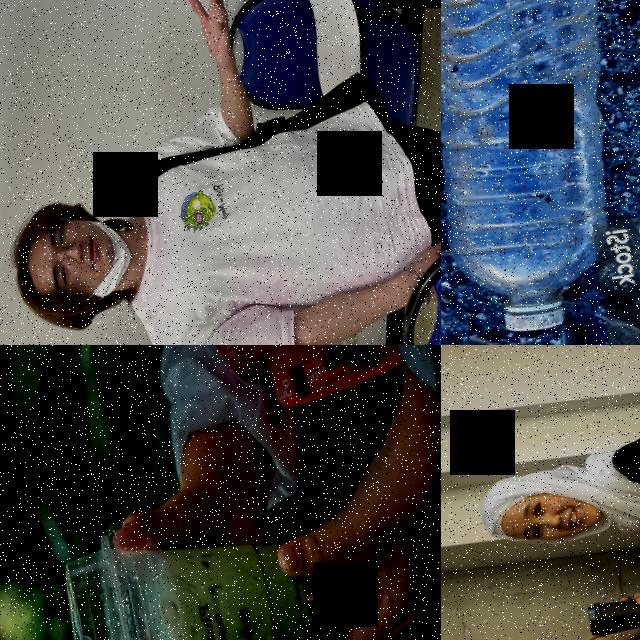bottle: (441, 0, 640, 343)
cup: (57, 509, 327, 640), (583, 590, 640, 638)
